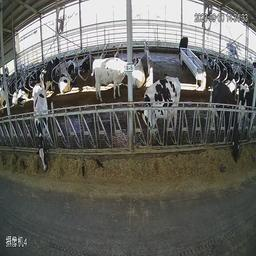cow: (132, 75, 186, 142), (211, 77, 241, 163), (29, 83, 51, 173), (88, 57, 128, 104), (240, 74, 254, 153), (127, 37, 149, 86), (37, 56, 65, 93), (57, 57, 80, 93), (15, 78, 32, 108), (208, 53, 222, 73)
